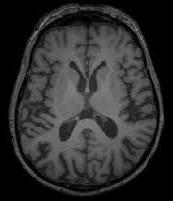Normal_Brain: (7, 6, 169, 201)
